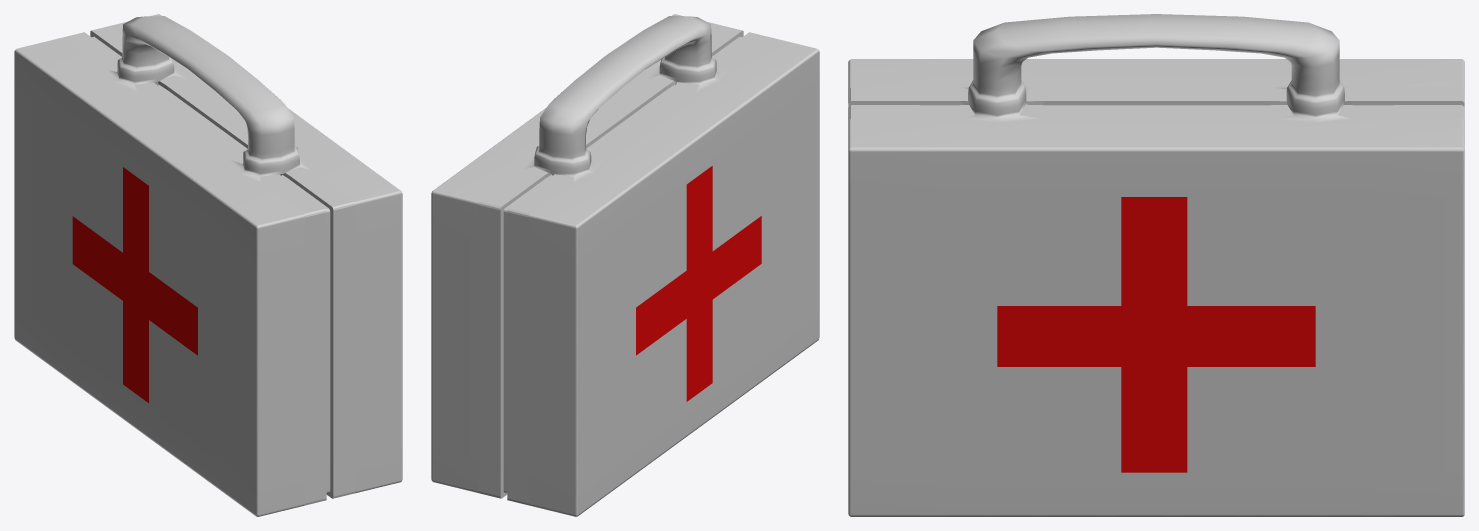
File: Elements_MedicBox.fbx
The picture shows the model from 3 angles, left to right: view 1: azimuth 30°, elevation 25°; view 2: azimuth 150°, elevation 25°; view 3: azimuth 270°, elevation 25°; orthographic projection. The views are drawn at different scales.
Parts seen in each view (by area): view 1: MedicBox; view 2: MedicBox; view 3: MedicBox.
Boxes of the visible parts, box(x1,y1,x2,y2) form: MedicBox: box(14, 14, 402, 516); MedicBox: box(431, 14, 819, 516); MedicBox: box(848, 14, 1464, 516).
Size of the model in its own units: 1.58 by 3.72 by 4.54.
